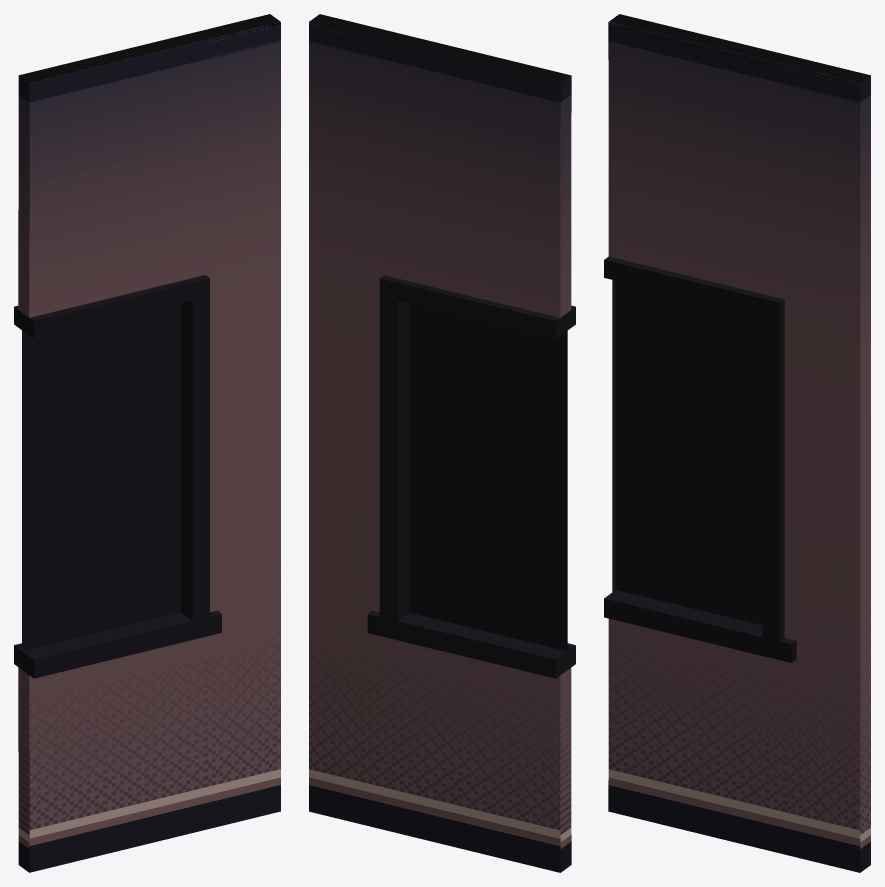
The model's file is L Wall.fbx.
The picture shows the model from 3 angles, left to right: view 1: azimuth 30°, elevation 25°; view 2: azimuth 150°, elevation 25°; view 3: azimuth 330°, elevation 25°; orthographic projection.
Visible parts, largest first — view 1: L Wall, glass.002, border.002; view 2: L Wall, glass.002, border.002; view 3: L Wall, glass.002, border.002.
Part boxes in pixels (box(x1,y1,x2,y2)): L Wall: box(18, 14, 280, 872); glass.002: box(22, 302, 183, 650); border.002: box(14, 275, 221, 678); L Wall: box(309, 14, 571, 872); glass.002: box(405, 303, 567, 651); border.002: box(367, 275, 575, 678); L Wall: box(608, 14, 870, 872); glass.002: box(612, 280, 762, 625); border.002: box(604, 256, 796, 663).
Size of the model in its own units: 200 by 600 by 27.99.
Materials: 3 (1 with a texture image).
